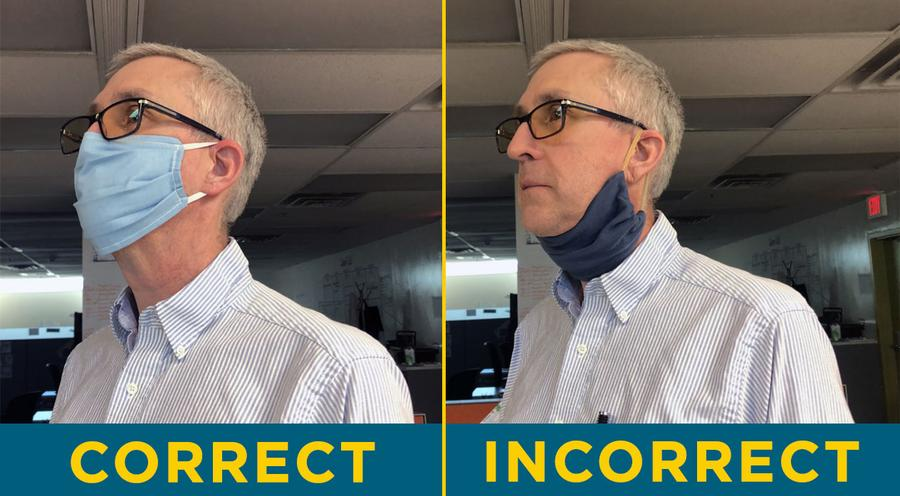with_incorrect_mask: (503, 79, 650, 264)
with_mask: (72, 87, 209, 260)
